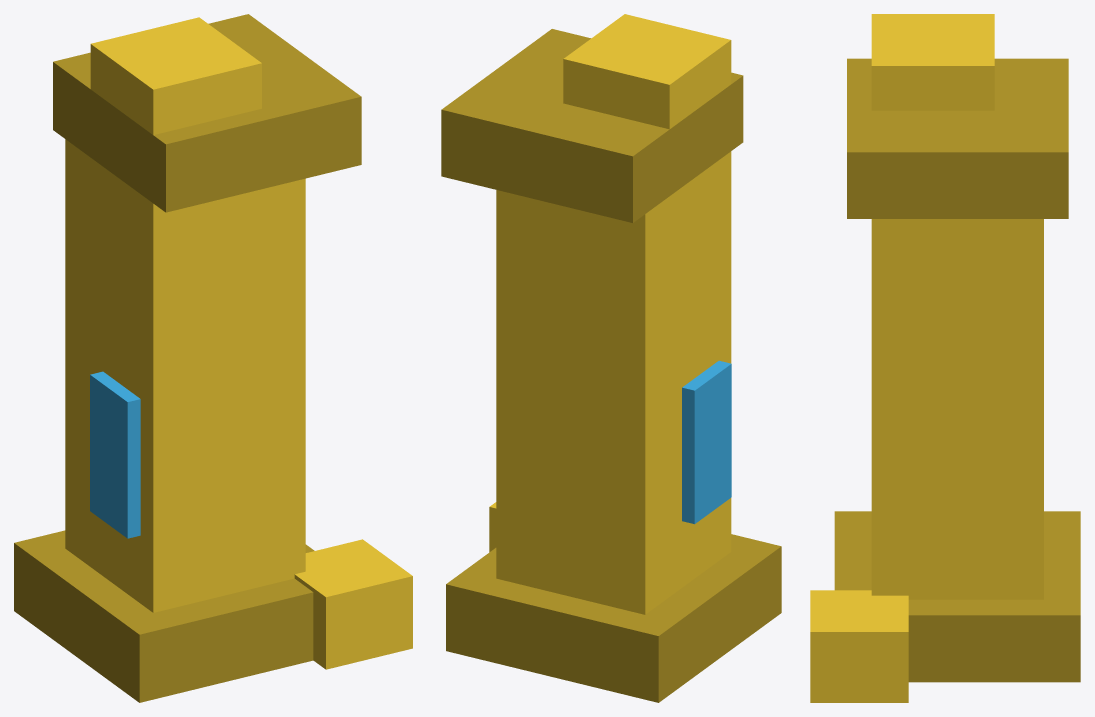
File: SandstonePillar.obj
3 renders of one model, left to right at view 1: azimuth 30°, elevation 25°; view 2: azimuth 150°, elevation 25°; view 3: azimuth 270°, elevation 25°, orthographic. The views are drawn at different scales.
Visible parts, largest first — view 1: SandstonePillar; view 2: SandstonePillar; view 3: SandstonePillar.
Part boxes in pixels (<box>): SandstonePillar: <box>14,14,412,702</box>; SandstonePillar: <box>441,14,781,702</box>; SandstonePillar: <box>810,14,1080,702</box>.
Size of the model in its own units: 6 by 13 by 5.5.
